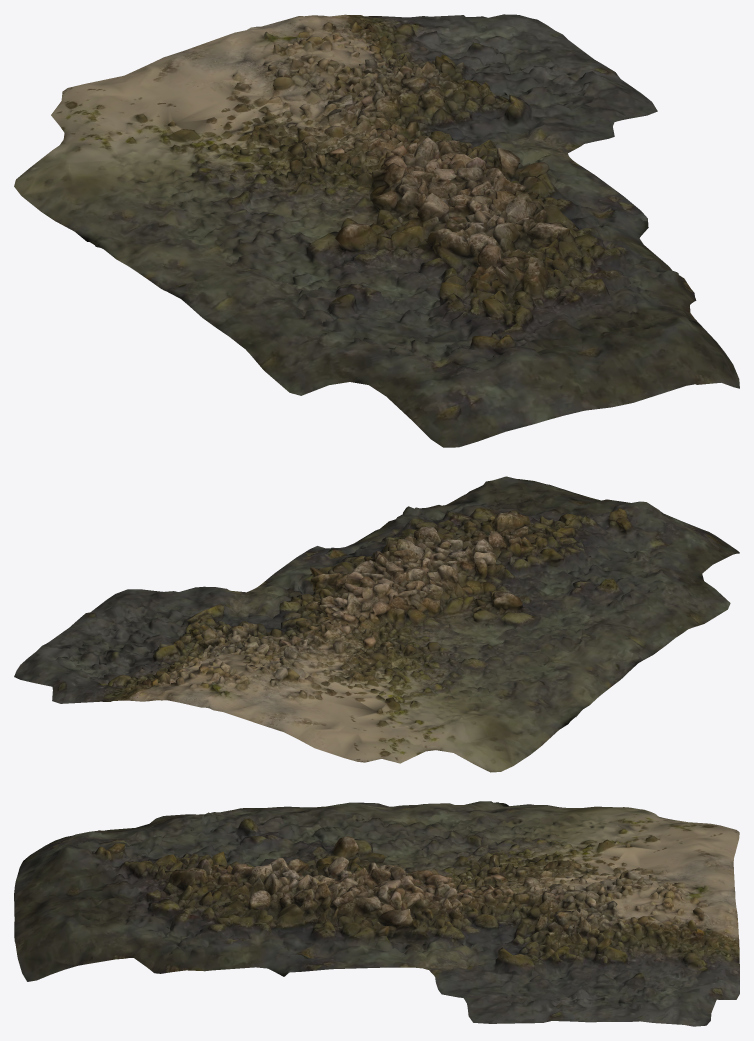
Rendered from coast_rocks_03.glb.
The picture shows the model from 3 angles, top to bottom: view 1: azimuth 30°, elevation 25°; view 2: azimuth 150°, elevation 25°; view 3: azimuth 270°, elevation 25°; orthographic projection. The views are drawn at different scales.
Parts seen in each view (by area): view 1: coast_rocks_03; view 2: coast_rocks_03; view 3: coast_rocks_03.
Boxes of the visible parts, x1,y1,x2,y2 form: coast_rocks_03: (14,14,739,447); coast_rocks_03: (14,476,739,772); coast_rocks_03: (14,801,739,1026).
Size of the model in its own units: 21.12 by 3.2 by 28.27.
1 material, 1 textured.
